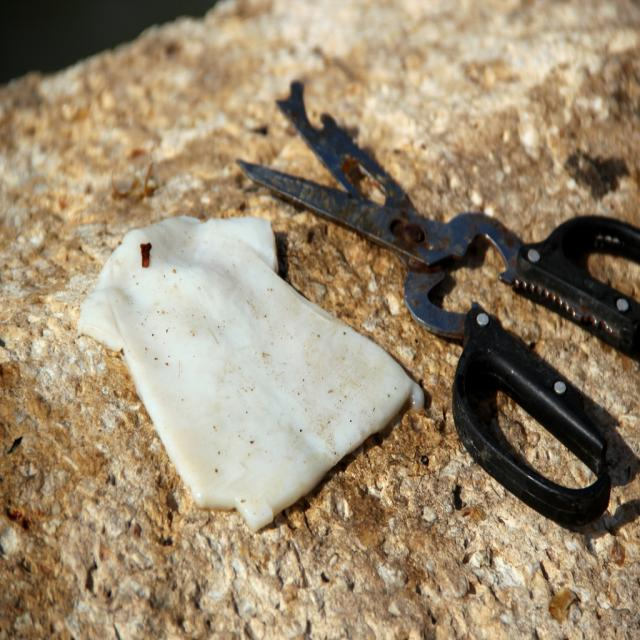scissors: (235, 78, 639, 528)
